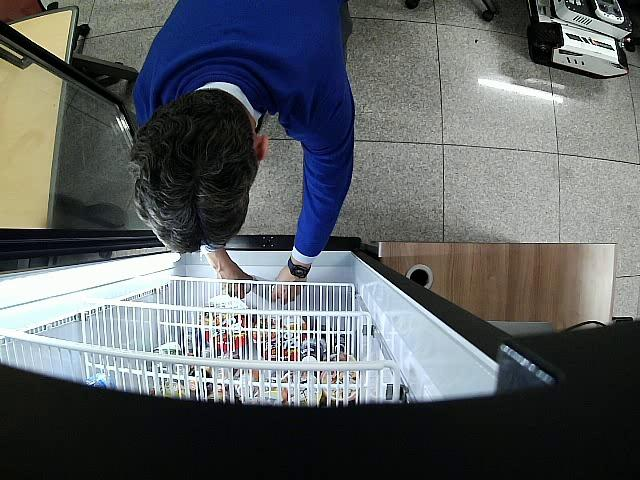00_hand: (207, 265, 255, 300), (271, 267, 305, 302)
